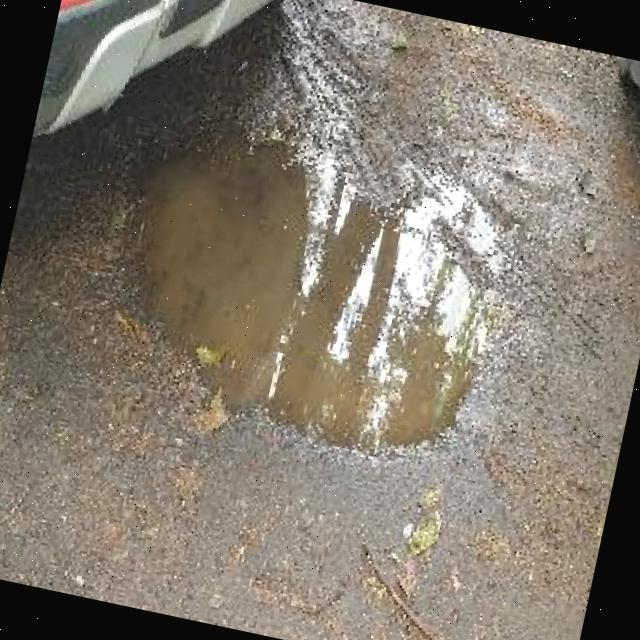waterlogging: (83, 108, 518, 481)
